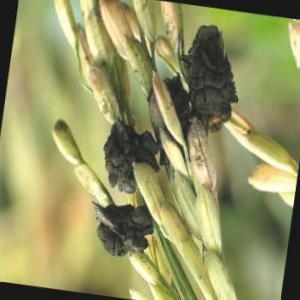Leaf_Scald: (190, 23, 220, 122), (97, 204, 149, 261), (107, 118, 135, 195), (120, 128, 170, 171), (224, 52, 236, 134)
